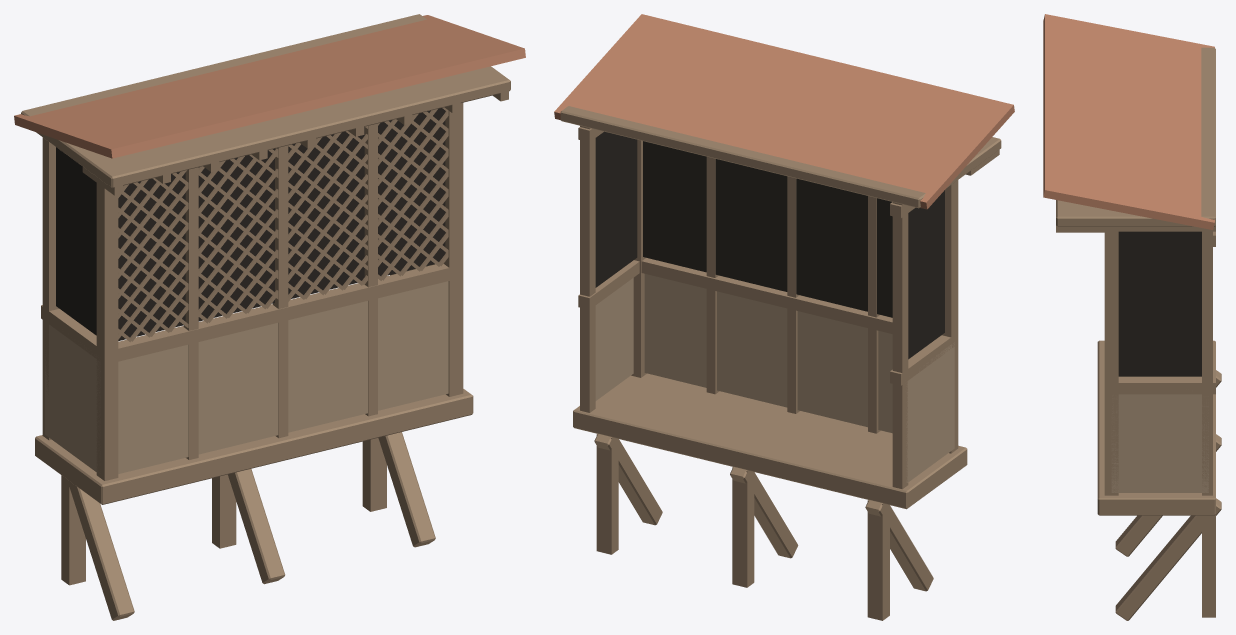
The model's file is cumba.glb.
3 views of the same model, side by side, from view 1: azimuth 30°, elevation 25°; view 2: azimuth 150°, elevation 25°; view 3: azimuth 270°, elevation 25° (orthographic). The views are drawn at different scales.
Visible parts, largest first — view 1: cumba; view 2: cumba; view 3: cumba.
Boxes of the visible parts, x1,y1,x2,y2 form: cumba: [14, 14, 525, 620]; cumba: [554, 14, 1014, 620]; cumba: [1043, 14, 1221, 620].
Bounding box in the file's own units: 3 × 3.59 × 1.28.
